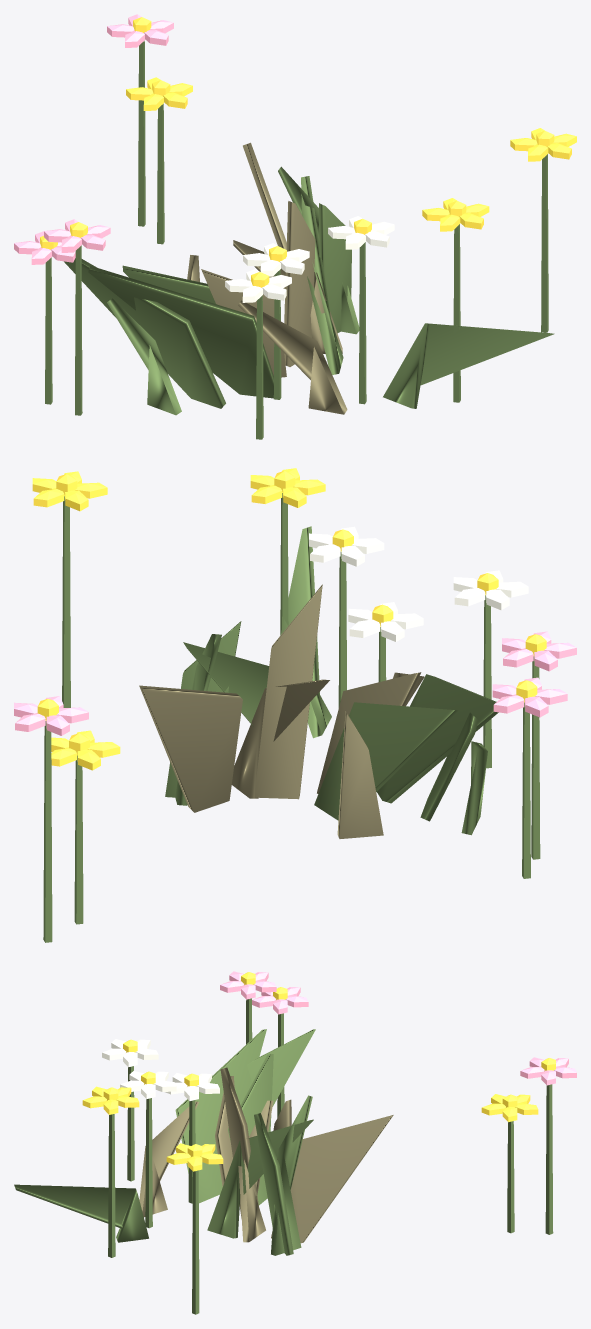
Rendered from flower_patch.glb.
3 views of the same model, one above another, from view 1: azimuth 30°, elevation 25°; view 2: azimuth 150°, elevation 25°; view 3: azimuth 270°, elevation 25° (orthographic). The views are drawn at different scales.
Visible parts, largest first — view 1: flower_patch; view 2: flower_patch; view 3: flower_patch.
Part boxes in pixels (x1,y1,x2,y2): flower_patch: [14, 14, 576, 439]; flower_patch: [14, 468, 576, 942]; flower_patch: [14, 971, 576, 1314].
Size of the model in its own units: 1.05 by 0.4188 by 1.21.
